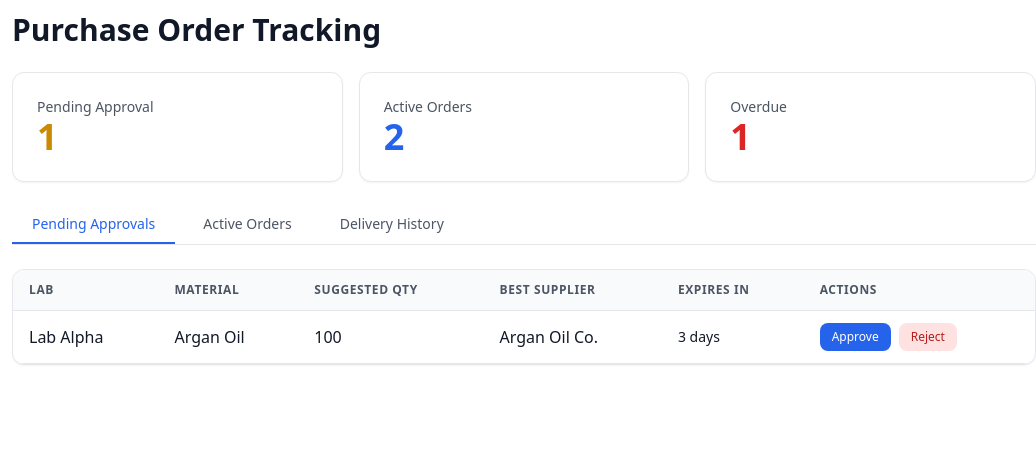
POTrackingPage › Delivery History tab shows completed delivery rows
Click the tab "Delivery History": (392, 225) [320,206,464,244]
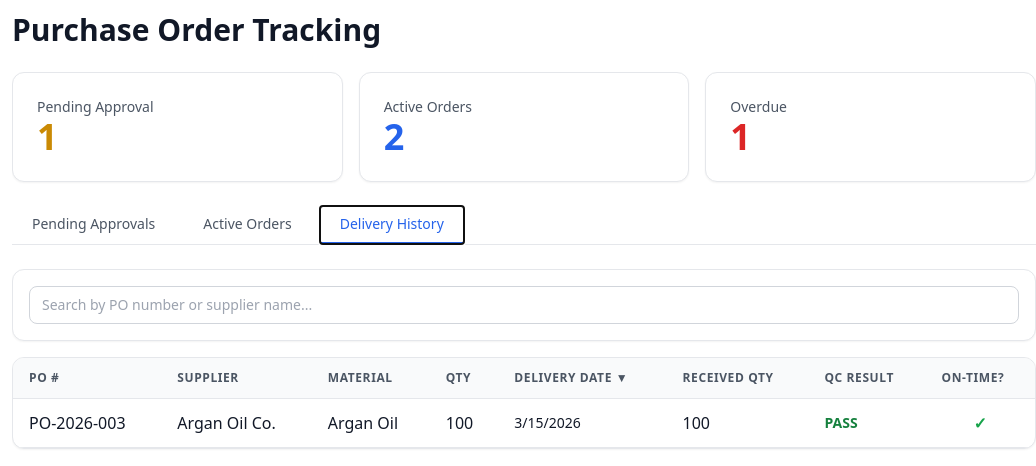
expect the text "PO-2026-003" is shown: met, box [13,399,161,448]
expect the text "PASS" is shown: met, box [808,399,926,448]
expect the text named "On time" is shown: met, box [974,412,987,434]
